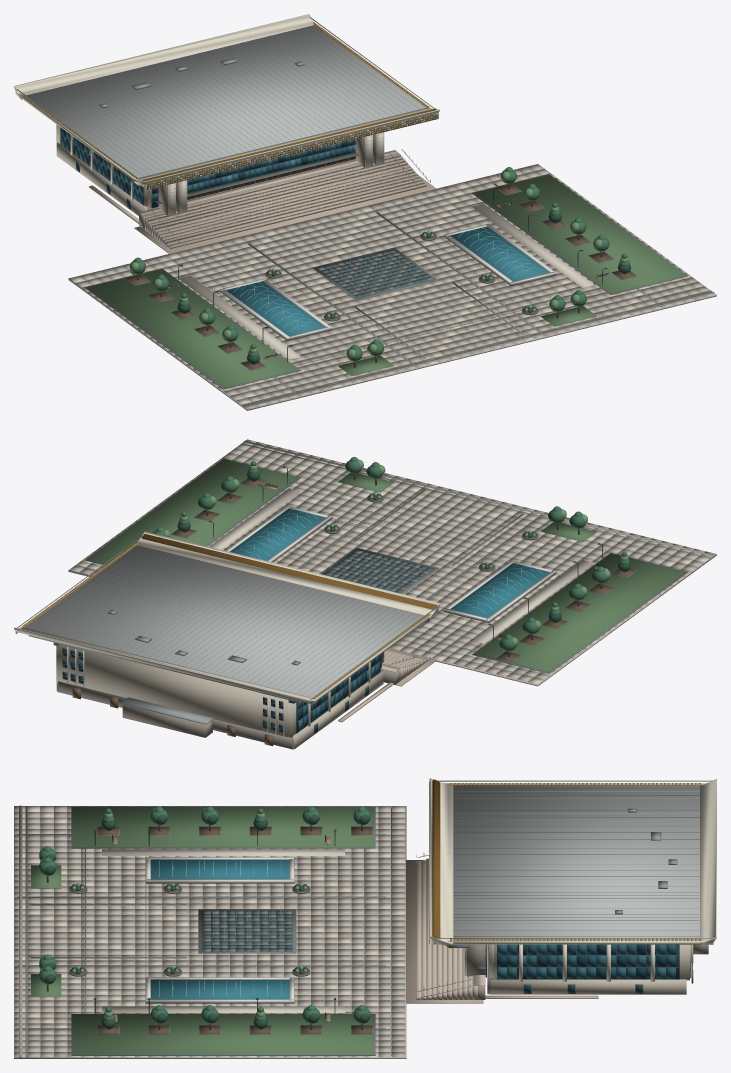
The model's file is republic_palace.glb.
The picture shows the model from 3 angles, top to bottom: view 1: azimuth 30°, elevation 25°; view 2: azimuth 150°, elevation 25°; view 3: azimuth 270°, elevation 25°; orthographic projection. The views are drawn at different scales.
Parts seen in each view (by area): view 1: plaza_paving, palace_roof_top, plaza_grass, palace_stairs, plaza_paving_light, palace_roof_edge, plaza_paving_warm, plaza_paving_accent, plaza_water_basin, palace_roof_grey, palace_stairs_riser, plaza_granite_edge (+20 smaller); view 2: palace_roof_top, plaza_paving, plaza_grass, palace_stone, plaza_paving_light, palace_roof_edge, palace_roof_grey, plaza_paving_warm, plaza_water_basin, plaza_paving_accent, palace_stone_darker, plaza_granite_edge (+15 smaller); view 3: plaza_paving, palace_roof_top, plaza_grass, plaza_paving_light, palace_roof_grey, plaza_paving_warm, palace_roof_edge, plaza_water_basin, plaza_paving_accent, palace_stairs, plaza_granite_edge, palace_stone (+19 smaller).
Boxes of the visible parts, x1,y1,x2,y2 form: plaza_paving: (68,164,716,410); palace_roof_top: (24,25,426,178); plaza_grass: (88,175,685,387); palace_stairs: (89,150,426,248); plaza_paving_light: (69,173,666,404); palace_roof_edge: (14,14,440,189); plaza_paving_warm: (97,167,705,409); plaza_paving_accent: (78,169,711,405); plaza_water_basin: (226,226,549,336); palace_roof_grey: (31,25,424,175); palace_stairs_riser: (147,155,426,242); plaza_granite_edge: (85,174,687,389); palace_roof_top: (24,545,427,702); plaza_paving: (68,439,716,686); plaza_grass: (88,459,685,672); palace_stone: (56,644,383,749); plaza_paving_light: (82,460,709,684); palace_roof_edge: (14,531,440,705); palace_roof_grey: (27,545,419,724); plaza_paving_warm: (79,442,715,674); plaza_water_basin: (230,508,549,618); plaza_paving_accent: (78,443,711,679); palace_stone_darker: (58,652,400,749); plaza_granite_edge: (85,458,687,673); plaza_paving: (14,806,406,1058); palace_roof_top: (453,784,699,940); plaza_grass: (31,807,373,1054); plaza_paving_light: (14,806,405,1057); palace_roof_grey: (453,788,699,939); plaza_paving_warm: (14,806,405,1057); palace_roof_edge: (429,778,716,945); plaza_water_basin: (150,859,289,999); plaza_paving_accent: (17,806,391,1057); palace_stairs: (416,858,598,999); plaza_granite_edge: (69,806,375,1055); palace_stone: (490,944,693,994).
Bounding box in the file's own units: 176 × 24.9 × 208.
